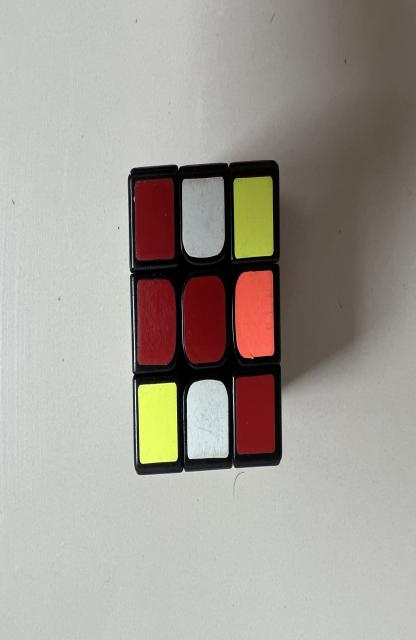Orange: (235, 270, 275, 358)
Red: (183, 275, 226, 365), (137, 278, 176, 365), (134, 178, 175, 260), (236, 373, 275, 455)
White: (182, 177, 225, 258), (187, 380, 228, 460)
Yellow: (233, 177, 274, 258), (138, 382, 178, 463)
